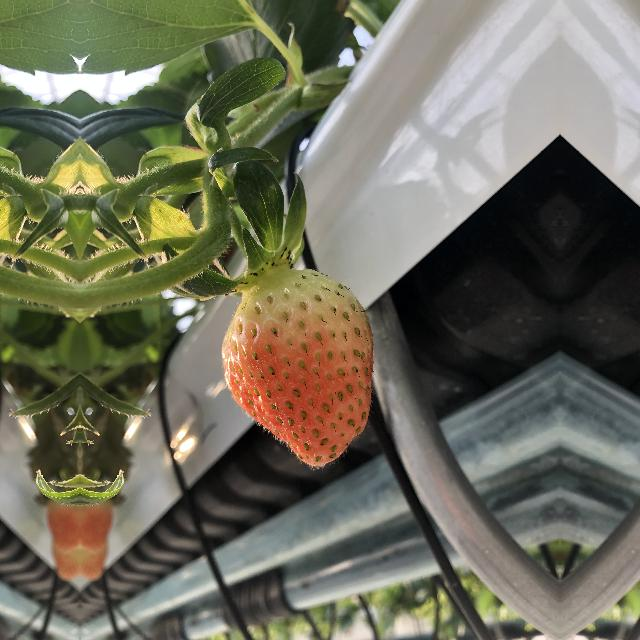Health_75: (200, 266, 384, 474)
